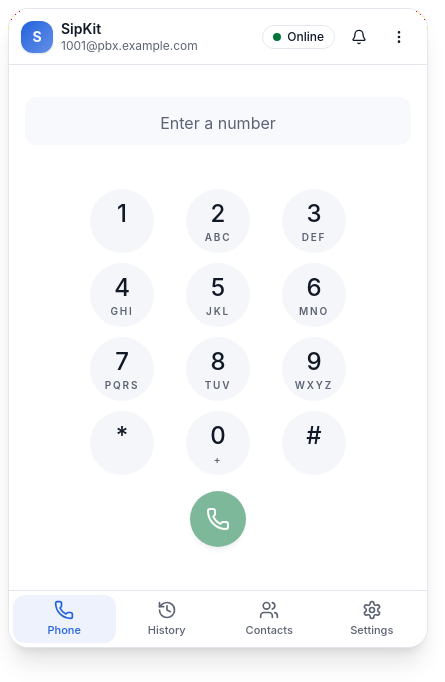
Test: dialer autocomplete › clicking a suggestion fills the field
Type "98424" into the dropdown named "Number to dial" at point(218, 120), box [25, 96, 411, 144]
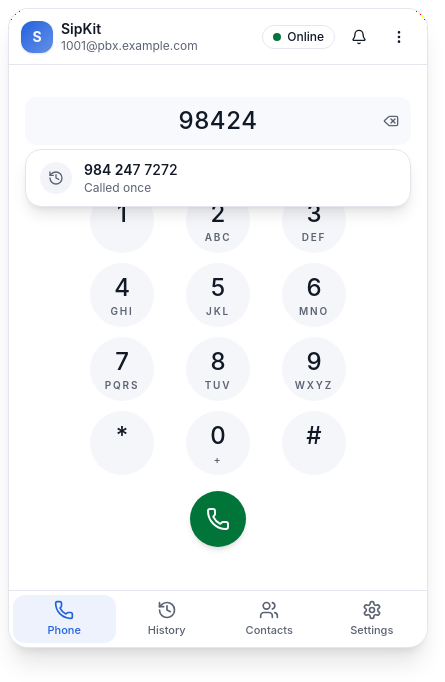
Click the option "984 247 7272 Called once" at point(109, 178), box [40, 160, 178, 194]
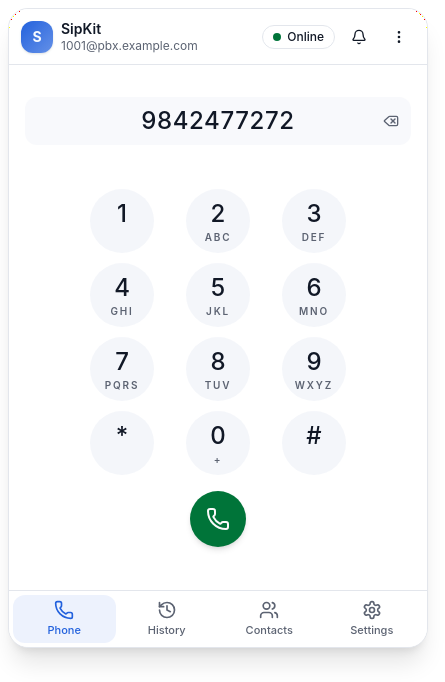
Check: the dropdown named "Number to dial" holds "9842477272", box [25, 96, 411, 144]
